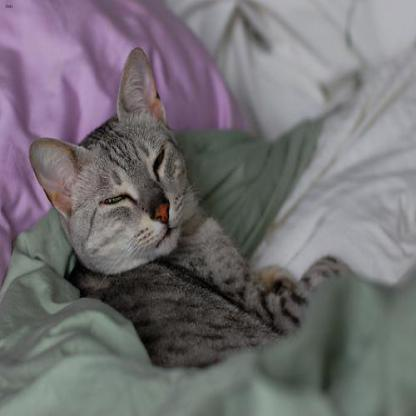cat: (31, 44, 350, 372)
